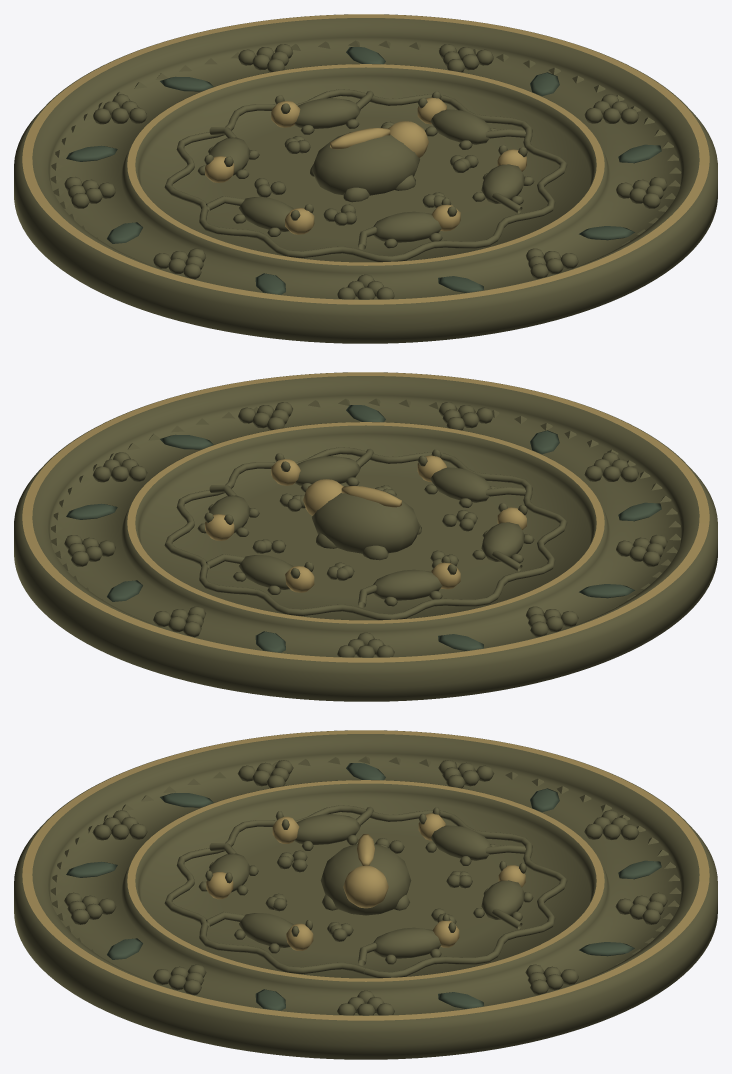
The model's file is lab_mirror.glb.
The picture shows the model from 3 angles, top to bottom: view 1: azimuth 30°, elevation 25°; view 2: azimuth 150°, elevation 25°; view 3: azimuth 270°, elevation 25°; orthographic projection.
Parts seen in each view (by area): view 1: mirror; view 2: mirror; view 3: mirror.
Boxes of the visible parts, box(x1,y1,x2,y2) form: mirror: box(14, 14, 717, 343); mirror: box(14, 372, 717, 701); mirror: box(14, 730, 717, 1059).
Size of the model in its own units: 0.21 by 0.0214 by 0.21.
